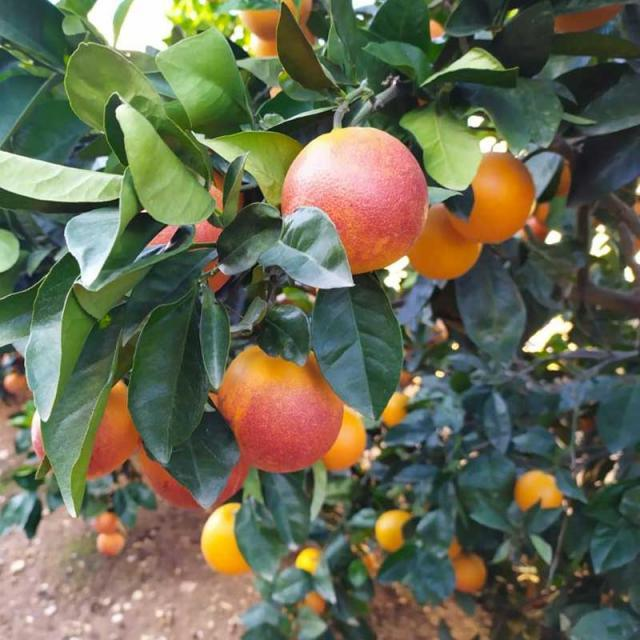Jeruk Sudah Matang: (274, 124, 432, 277), (207, 335, 358, 480), (440, 148, 537, 244), (403, 198, 487, 284), (194, 498, 270, 582), (507, 466, 567, 518), (368, 506, 419, 556)
